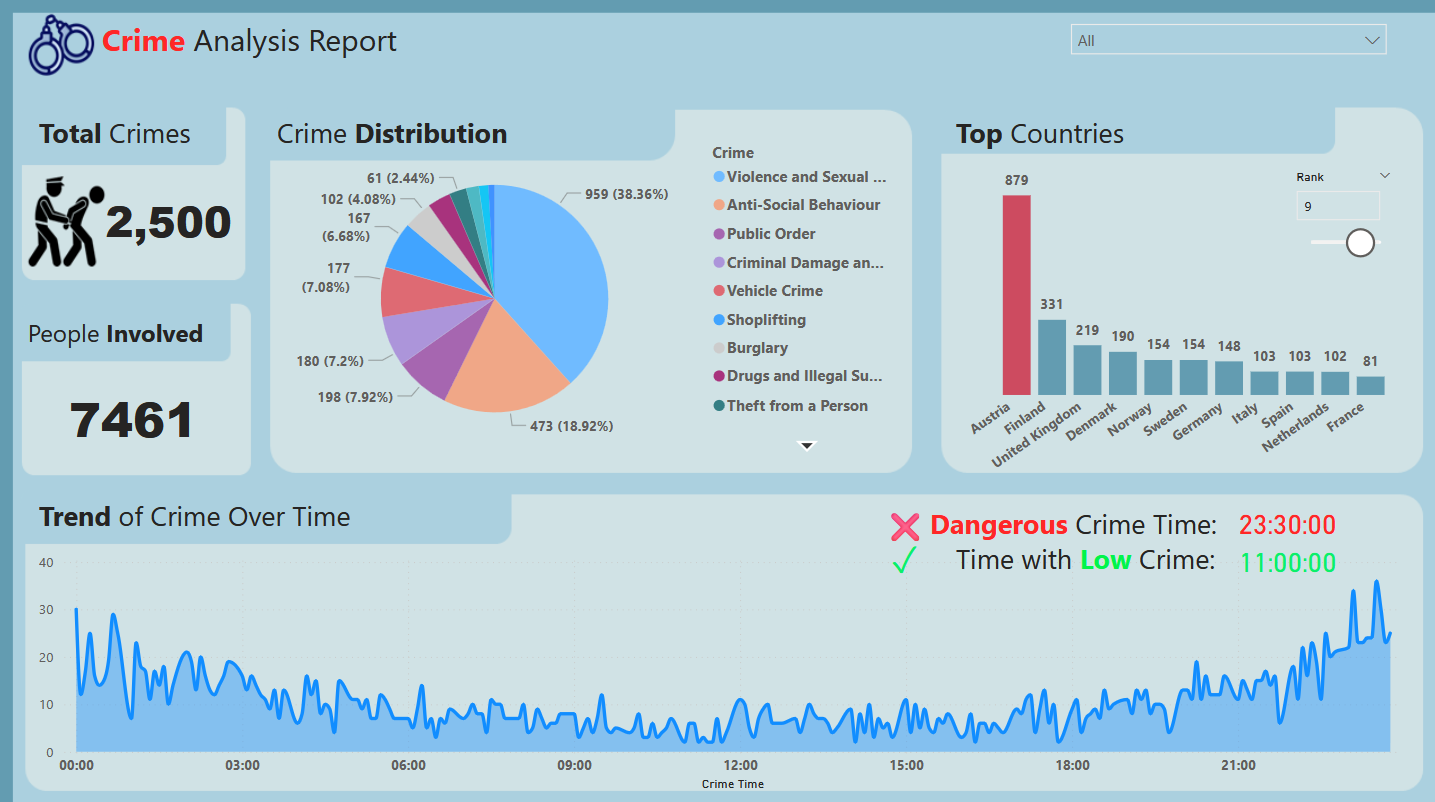

Layout of this report page (visuals, bound fields, positions):
{"tool":"powerbi","page":{"name":"Report 2","canvas":[1280,720],"ordinal":1},"visuals":[{"type":"stackedAreaChart","fields":{"Category":["Crimes Data.Crime Time"],"Y":["calculated_table.Total_Crimes"]},"box":[32.6,485,1224.5,222],"z":0},{"type":"clusteredColumnChart","fields":{"Category":["Crimes Data.Country"],"Y":["calculated_table.Top N Filter"]},"box":[856.6,136.3,392.1,300.4],"z":1000},{"type":"pieChart","fields":{"Category":["Crime Types.Crime"],"Y":["calculated_table.Total_Crimes"]},"box":[243.7,121.9,562.2,287.1],"z":2000},{"type":"slicer","fields":{"Values":["Crimes Data.Country"]},"box":[943.4,12.1,299.2,51.9],"z":3000},{"type":"card","fields":{"Values":["calculated_table.Total_Crimes"]},"box":[89.3,146,127.9,101.3],"z":4000},{"type":"textbox","box":[822.8,442.7,270.2,50.7],"z":4000,"group":"g1"},{"type":"card","fields":{"Values":["calculated_table.cross"]},"box":[766.1,436.7,79.6,62.7],"z":5000,"group":"g1"},{"type":"slicer","fields":{"Values":["Parameter.Parameter"]},"box":[1140.1,146,108.6,101.3],"z":6000},{"type":"textbox","box":[845.7,474.1,270.2,50.7],"z":6000,"group":"g1"},{"type":"group","id":"g1","title":"Group 1","box":[766.1,436.7,430.7,88.1],"z":6001},{"type":"card","fields":{"Values":["Sum(Crimes Data.People Involved)"]},"box":[45.8,331.8,150.8,77.2],"z":6002},{"type":"textbox","box":[89.2,12.3,296.4,50.8],"z":6003},{"type":"textbox","box":[32.6,96.5,154.4,49.5],"z":6004},{"type":"textbox","box":[22.9,276.3,174.9,45.8],"z":6005},{"type":"textbox","box":[243.7,96.5,250.9,49.5],"z":6006},{"type":"textbox","box":[845.7,96.5,174.9,49.5],"z":6007},{"type":"textbox","box":[32.6,435.5,294.4,45.8],"z":6008},{"type":"card","fields":{"Values":["calculated_table.check"]},"box":[777,468.1,56.7,56.7],"z":7000,"group":"g1"},{"type":"card","fields":{"Values":["Min(Crimes Data.Crime Time)"]},"box":[1093,442.7,103.8,43.4],"z":8000,"group":"g1"},{"type":"card","fields":{"Values":["Min(Crimes Data.Crime Time)"]},"box":[1093,476.5,103.8,43.4],"z":9000,"group":"g1"}]}

Visuals, with their boxes in screenshot pixels (x1, y1, x2, y2), scaled from the page's 1280x720 canvas onto the 1435x802 screenshot:
stackedAreaChart - Crimes Data.Crime Time x calculated_table.Total_Crimes: [37, 540, 1409, 788]
clusteredColumnChart - Crimes Data.Country x calculated_table.Top N Filter: [960, 152, 1400, 486]
pieChart - Crime Types.Crime x calculated_table.Total_Crimes: [273, 136, 903, 456]
slicer - Crimes Data.Country: [1058, 13, 1393, 71]
card - calculated_table.Total_Crimes: [100, 163, 244, 275]
textbox: [922, 493, 1225, 550]
card - calculated_table.cross: [859, 486, 948, 556]
slicer - Parameter.Parameter: [1278, 163, 1400, 275]
textbox: [948, 528, 1251, 585]
"Group 1" group: [859, 486, 1342, 585]
card - Sum(Crimes Data.People Involved): [51, 370, 220, 456]
textbox: [100, 14, 432, 70]
textbox: [37, 107, 210, 163]
textbox: [26, 308, 222, 359]
textbox: [273, 107, 554, 163]
textbox: [948, 107, 1144, 163]
textbox: [37, 485, 367, 536]
card - calculated_table.check: [871, 521, 935, 585]
card - Min(Crimes Data.Crime Time): [1225, 493, 1342, 541]
card - Min(Crimes Data.Crime Time): [1225, 531, 1342, 579]
